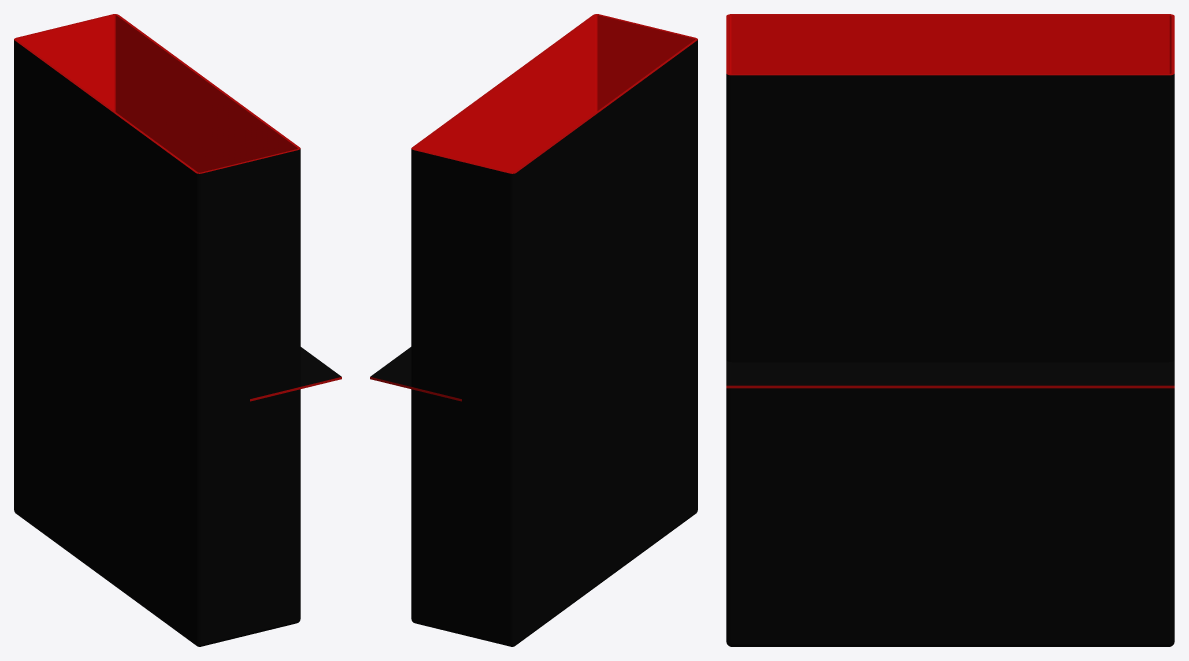
The picture shows the model from 3 angles, left to right: view 1: azimuth 30°, elevation 25°; view 2: azimuth 150°, elevation 25°; view 3: azimuth 270°, elevation 25°; orthographic projection. The views are drawn at different scales.
Parts seen in each view (by area): view 1: box_shell, box_lid; view 2: box_shell, box_lid; view 3: box_shell, box_lid.
Part boxes in pixels (x1=…): box_shell: x1=14, y1=14, x2=300, y2=646; box_lid: x1=250, y1=347, x2=341, y2=401; box_shell: x1=411, y1=14, x2=697, y2=646; box_lid: x1=370, y1=347, x2=461, y2=401; box_shell: x1=726, y1=14, x2=1174, y2=646; box_lid: x1=726, y1=360, x2=1174, y2=388.
Bounding box in the file's own units: 0.0284 × 0.0896 × 0.0635.
